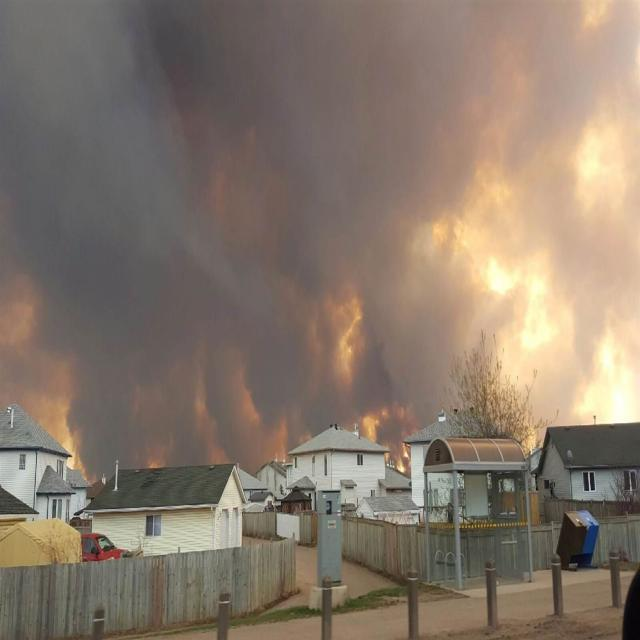Fire: (579, 339, 640, 425)
Smoke: (24, 13, 597, 422)
